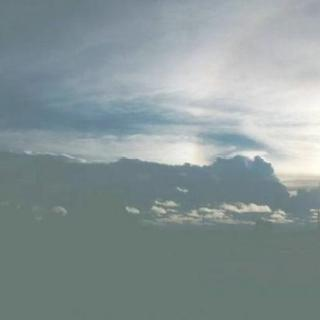Stratus: (0, 0, 320, 235)
